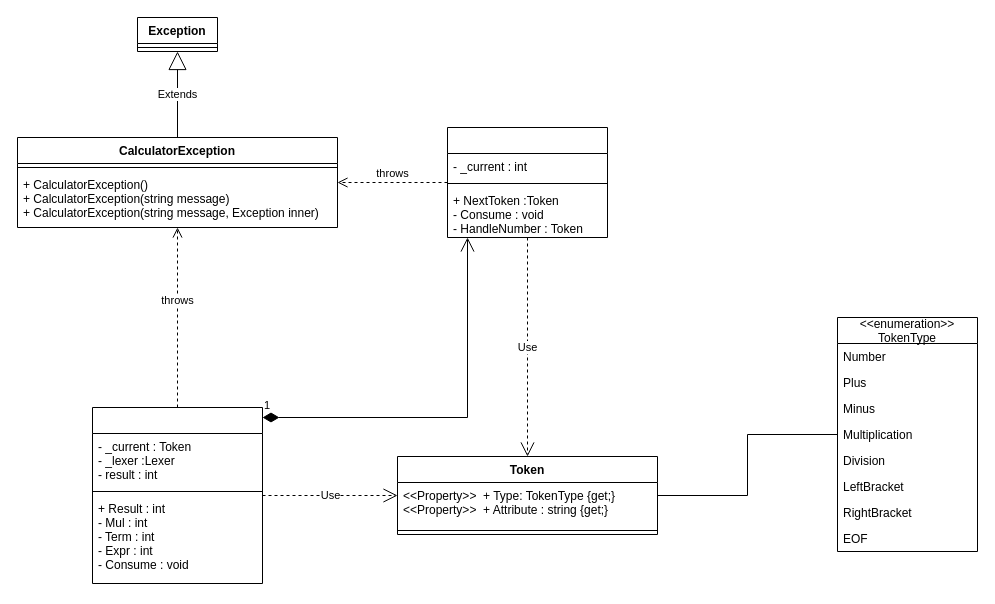
The diagram is 995 pixels wide and 604 high, and some of its shapes have lost their labels. The box of each missing label's shape, as (x1, y1, x2, y2) in pixels:
Lexer: (446, 126, 608, 238)
Parser: (92, 406, 262, 584)
